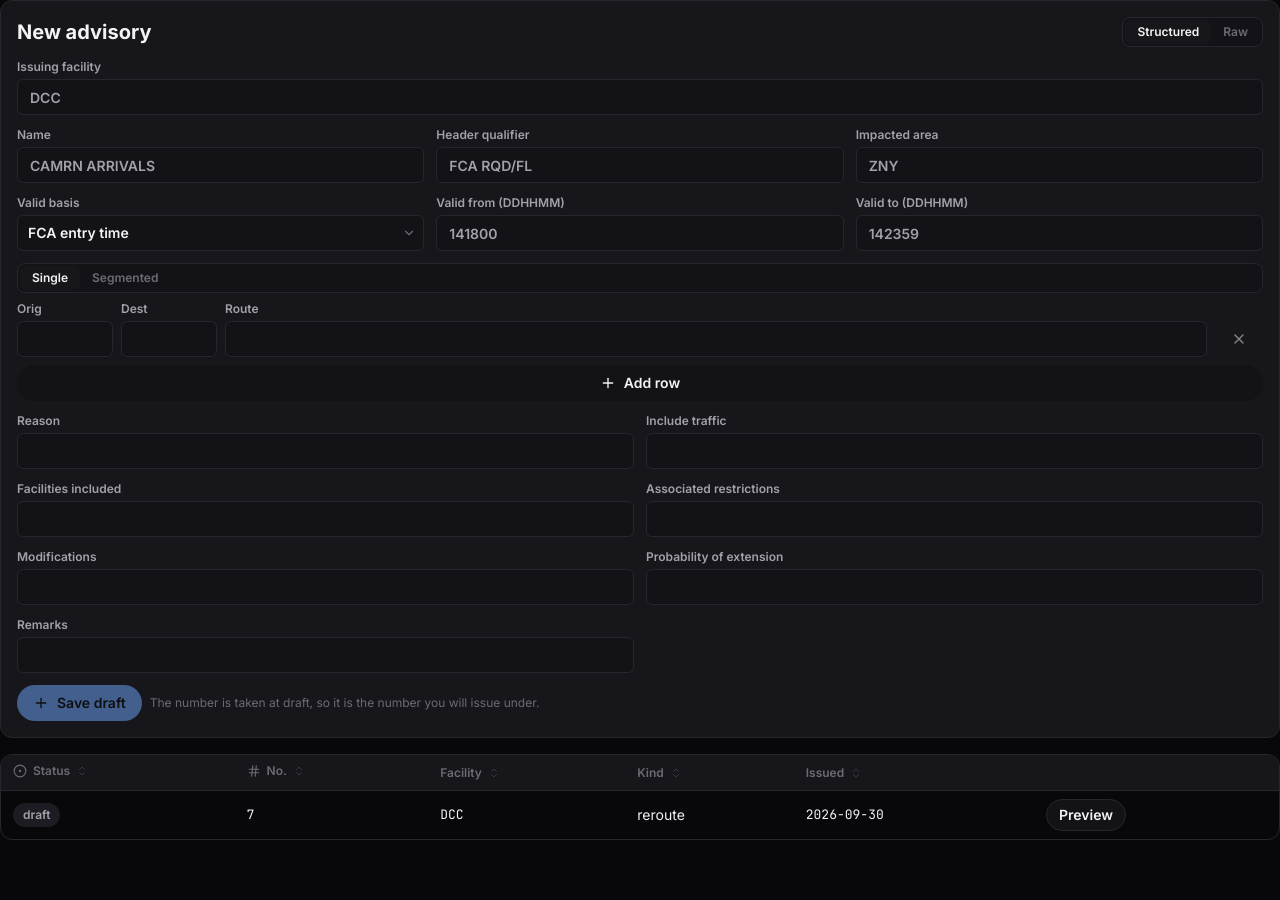
Test case: AdvisoriesTab preview (VATUSA/OIS#460 AC2) › shows the body the API returned, verbatim
This screenshot has width=1280, height=900.
Click the button "Preview": x=1086, y=815 [1046,799,1126,831]
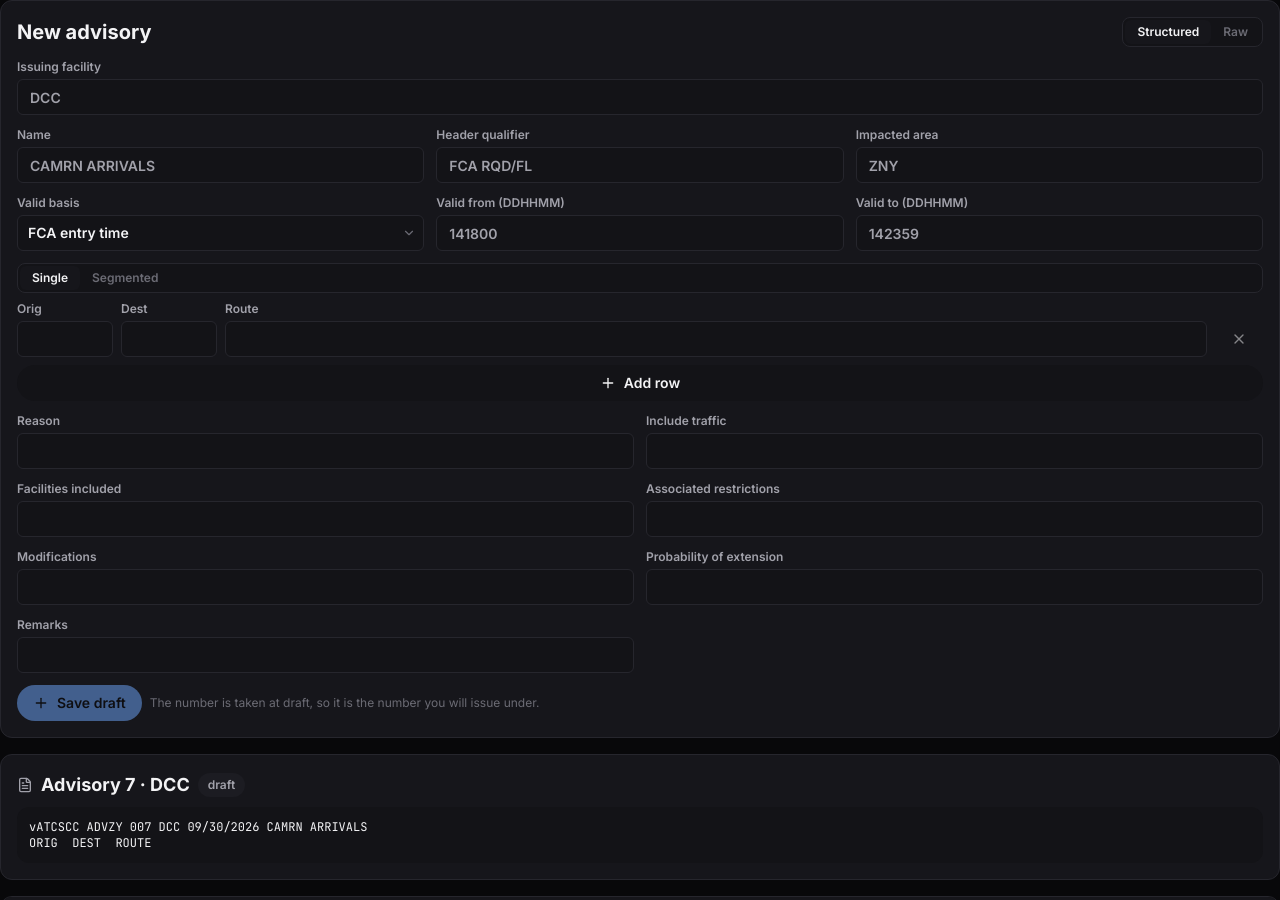
Now the text named "Rendered advisory" is shown, box [17,807,1263,863]
